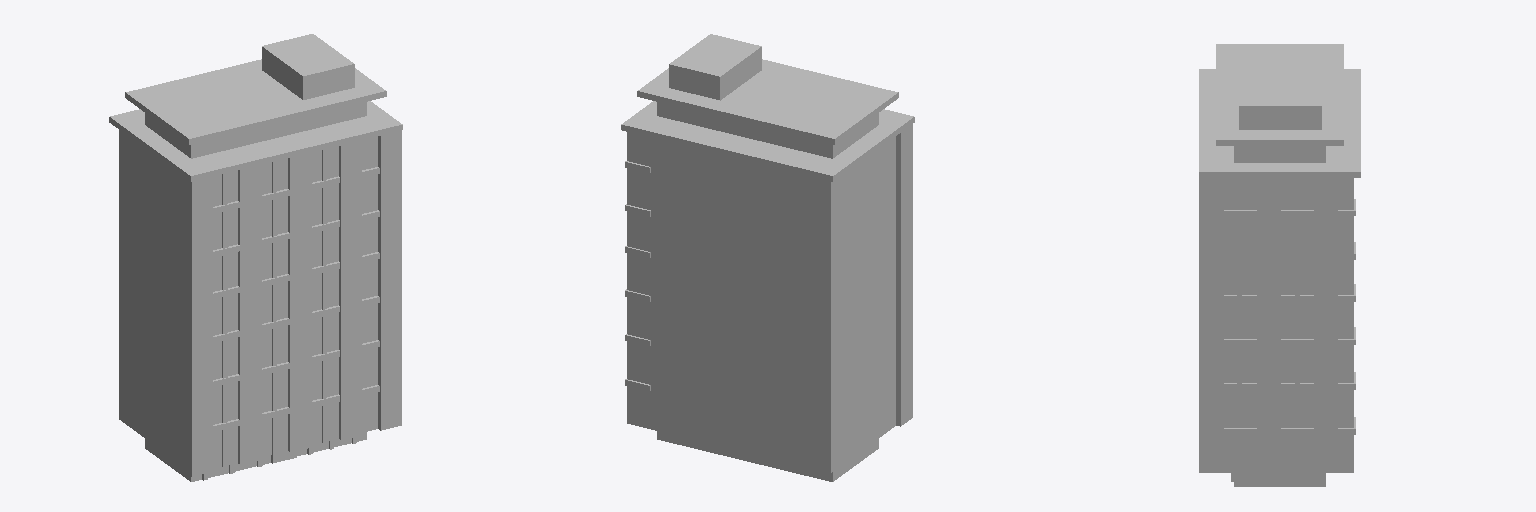
Rendered from building8.obj.
3 views of the same model, side by side, from view 1: azimuth 30°, elevation 25°; view 2: azimuth 150°, elevation 25°; view 3: azimuth 270°, elevation 25° (orthographic).
Parts seen in each view (by area): view 1: texture_finish_now:pCube238 city, city texture_finish_now:pCube48; view 2: texture_finish_now:pCube238 city, city texture_finish_now:pCube48; view 3: texture_finish_now:pCube238 city, city texture_finish_now:pCube48.
Boxes of the visible parts, <box> form: texture_finish_now:pCube238 city: <box>119,130,401,476</box>; city texture_finish_now:pCube48: <box>109,34,402,481</box>; texture_finish_now:pCube238 city: <box>627,124,912,472</box>; city texture_finish_now:pCube48: <box>621,34,914,481</box>; texture_finish_now:pCube238 city: <box>1199,178,1353,472</box>; city texture_finish_now:pCube48: <box>1199,44,1360,486</box>.
Size of the model in its own units: 8.53 by 14.47 by 5.67.